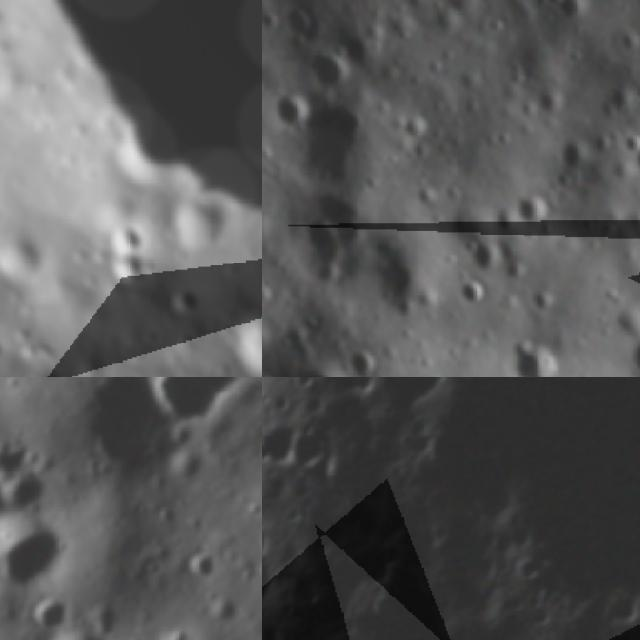crater: (20, 0, 262, 280), (0, 493, 78, 604), (277, 204, 368, 299), (128, 377, 233, 446), (0, 460, 74, 534), (492, 322, 572, 377), (369, 377, 464, 422), (298, 35, 358, 96), (262, 404, 310, 480), (179, 532, 239, 592), (285, 419, 339, 483), (0, 411, 44, 485), (263, 78, 318, 136), (35, 610, 140, 640), (506, 181, 557, 232), (230, 296, 262, 377), (459, 228, 508, 278), (526, 76, 574, 124), (276, 348, 355, 377), (336, 333, 387, 377), (550, 128, 596, 175), (601, 581, 640, 635), (507, 547, 554, 590), (104, 218, 149, 260), (106, 252, 155, 290), (452, 268, 494, 312), (262, 554, 291, 617), (278, 0, 318, 42), (398, 106, 436, 145), (543, 0, 594, 27), (408, 175, 444, 212), (522, 279, 559, 314), (356, 12, 391, 48), (611, 20, 640, 59), (166, 285, 206, 313), (616, 332, 640, 377), (613, 123, 640, 159), (262, 521, 278, 568), (627, 137, 640, 175)
